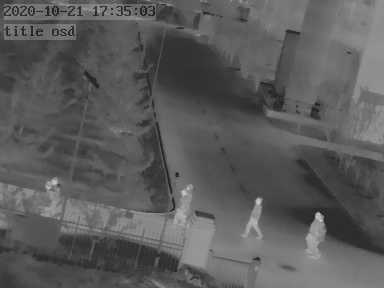person: (306, 206, 328, 257), (245, 194, 264, 240), (41, 177, 64, 214), (177, 183, 195, 225)
